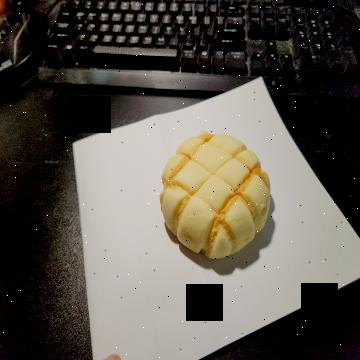melon_bread: (158, 132, 272, 264)
